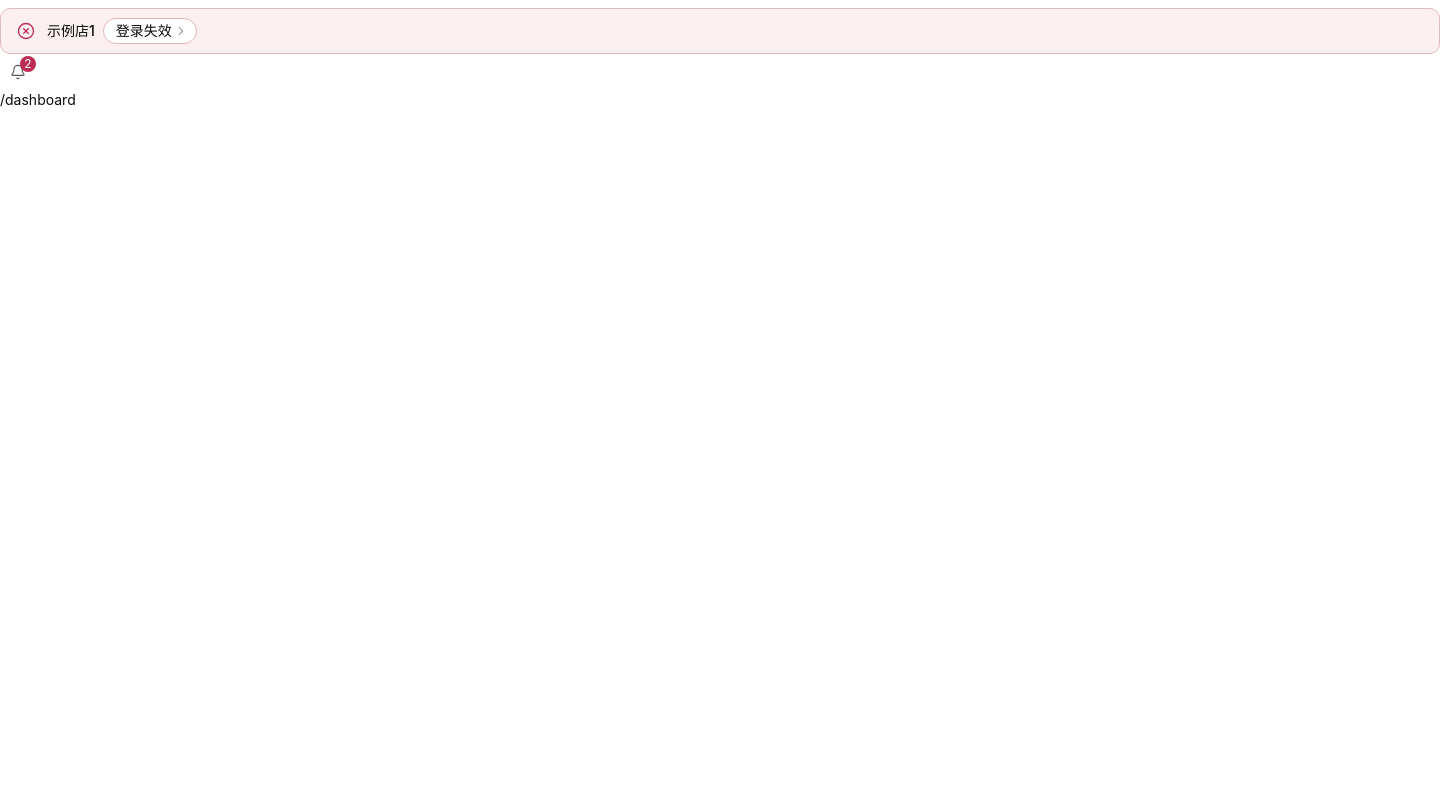
通知面板 › 依次为进行中、待处理、通知列表；未读加粗
Click the button named "通知" at (18, 72), box [0,54,36,90]
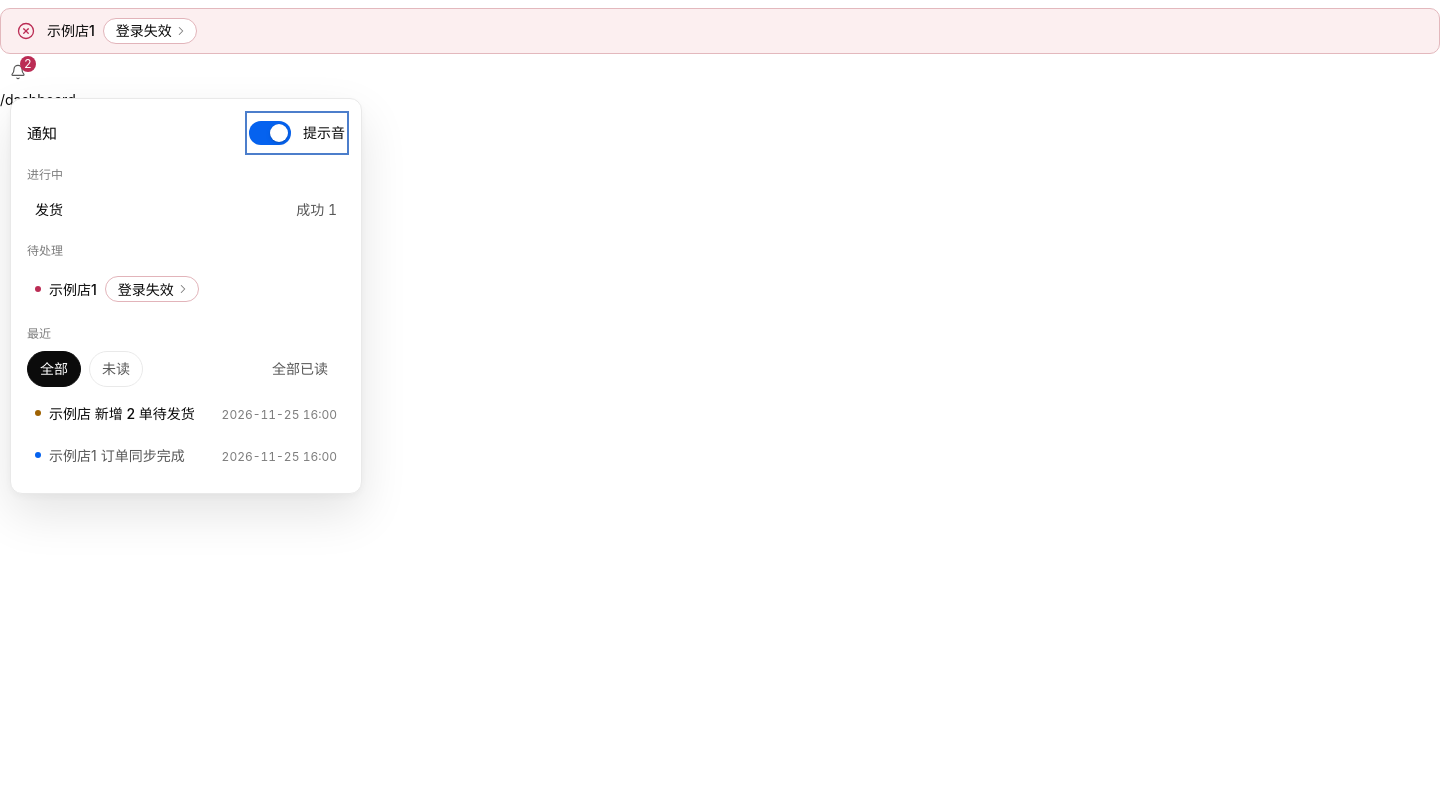
Expected: the headings read "通知", "进行中", "待处理", "最近", in this order, [27,122,57,144]; [27,167,63,182]; [27,243,63,258]; [27,326,51,341]
Expected: the element "进行中" shows "发货", [35,201,63,218]
Expected: the element "进行中" shows "成功 1", [296,201,337,218]
